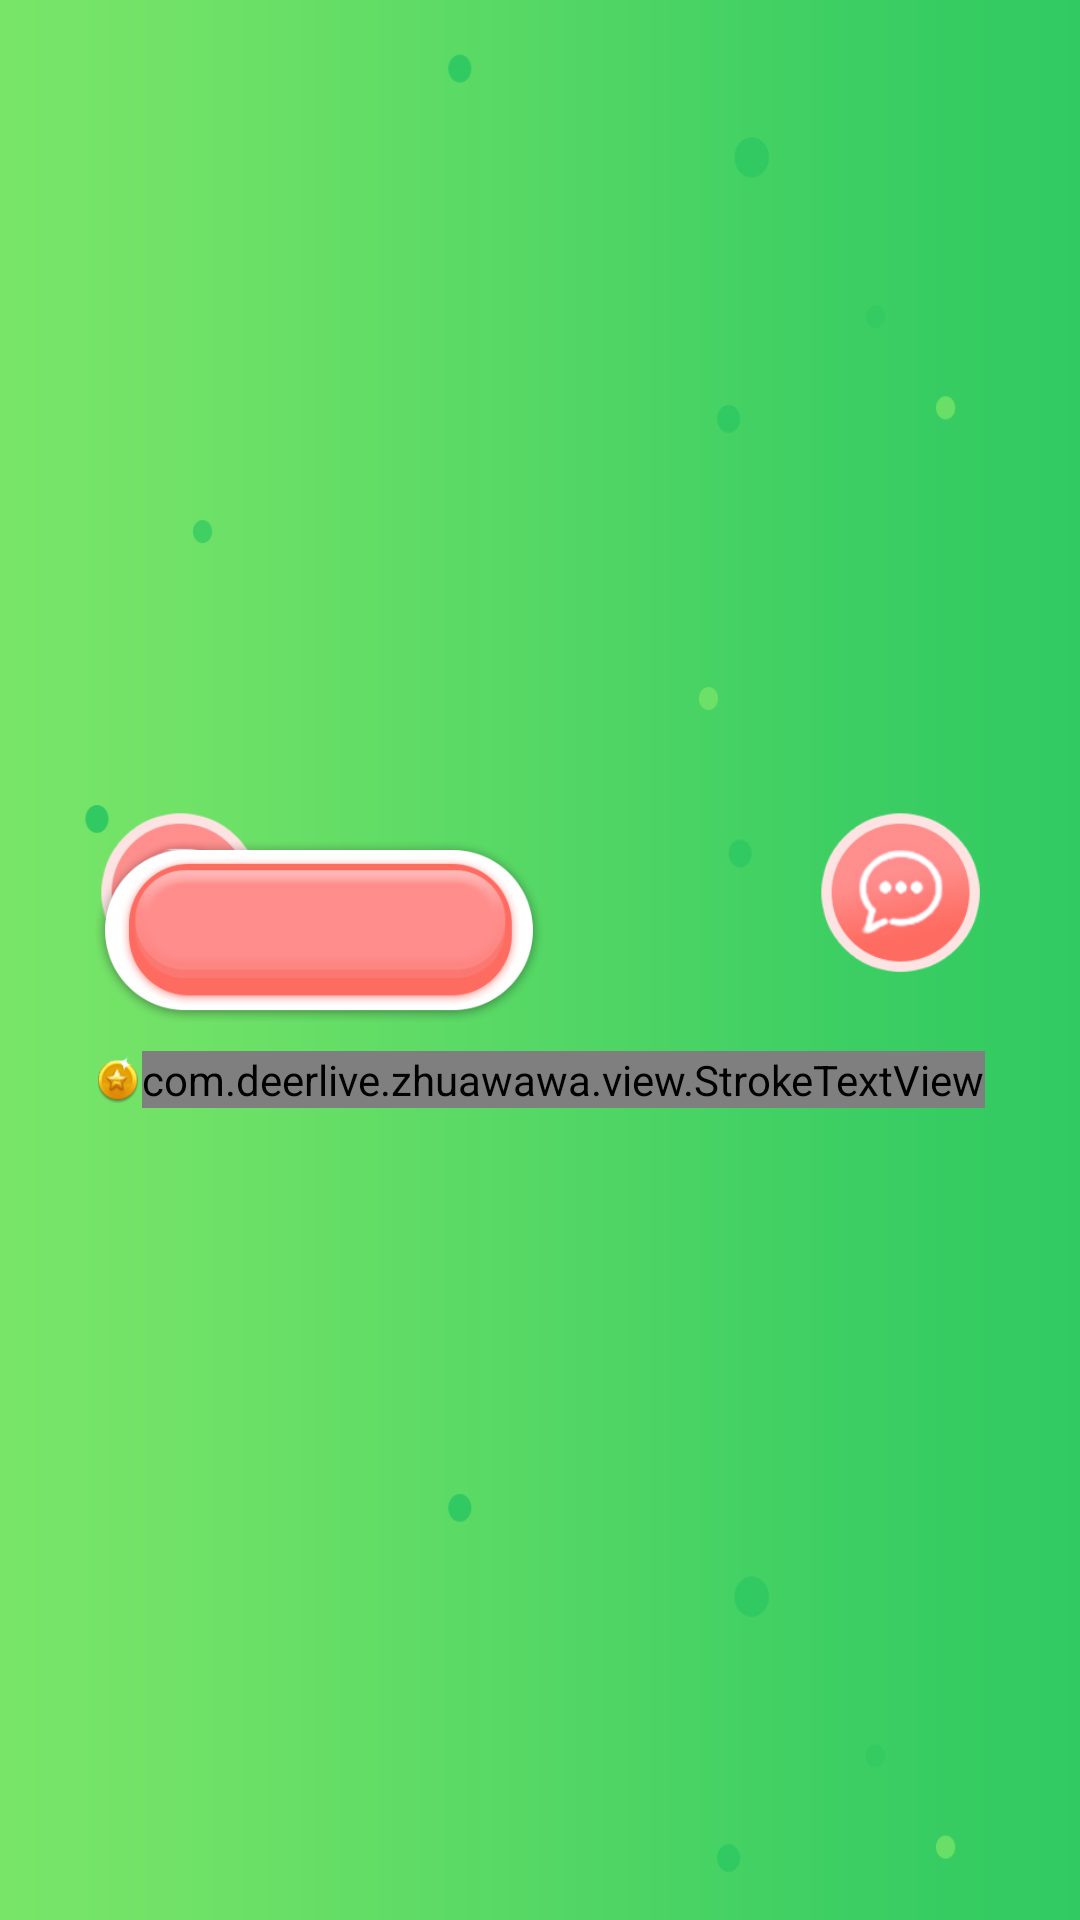

Named icons in this screenshot (1080 x 1920) and their centers, (x=x, y=y):
player mess: (x=900, y=892)
satar: (x=118, y=1080)
